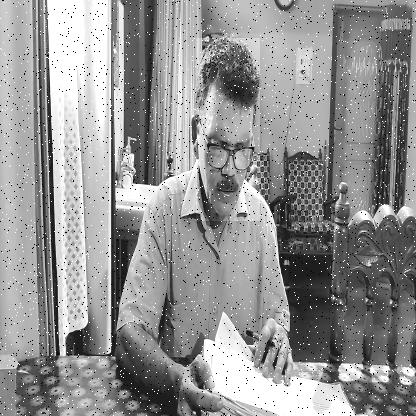Normal: (196, 38, 260, 221)
